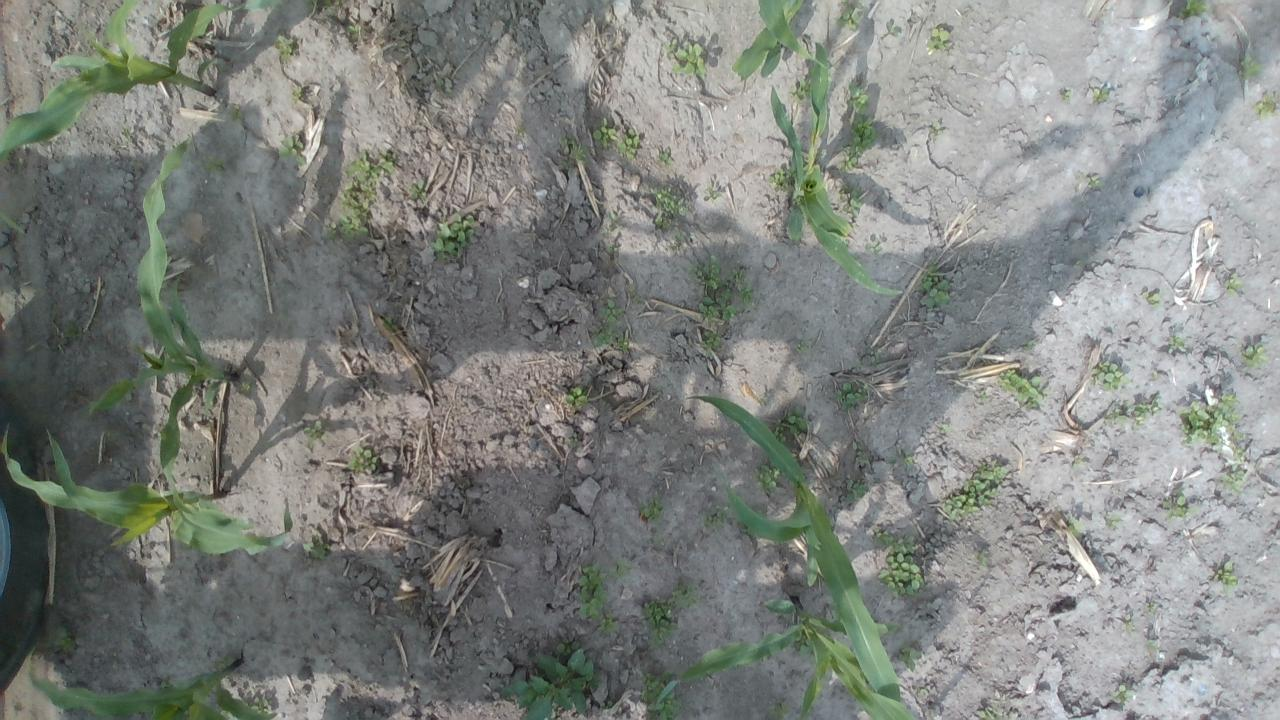Maize: (682, 388, 908, 720), (0, 0, 297, 232), (86, 138, 240, 537), (0, 421, 294, 556), (770, 38, 909, 300), (650, 595, 924, 720), (24, 644, 278, 720), (726, 0, 804, 79), (755, 0, 831, 71)
Weeds: (502, 640, 602, 720), (325, 148, 397, 244), (689, 255, 755, 356), (944, 457, 1010, 522), (1178, 390, 1246, 452), (836, 82, 878, 172), (874, 530, 927, 601), (576, 562, 617, 636), (430, 212, 475, 262), (642, 669, 684, 720), (1103, 397, 1164, 432), (997, 369, 1051, 408), (660, 38, 709, 79), (594, 300, 630, 353), (649, 185, 690, 230), (916, 260, 954, 308), (642, 598, 678, 648), (770, 406, 809, 450), (1088, 360, 1134, 391), (1162, 487, 1200, 522), (558, 133, 590, 171), (1218, 452, 1246, 493), (276, 134, 308, 168), (833, 381, 869, 411), (754, 459, 782, 496), (838, 183, 864, 219), (834, 0, 862, 33), (591, 117, 619, 150), (636, 492, 664, 525), (348, 445, 380, 472), (1212, 560, 1237, 594), (700, 504, 730, 532), (670, 583, 700, 611), (896, 639, 922, 671), (46, 623, 74, 652), (844, 472, 869, 504), (1238, 52, 1264, 82), (766, 167, 796, 193), (617, 128, 641, 160), (1251, 92, 1280, 118), (302, 418, 328, 446), (1242, 343, 1270, 369), (926, 27, 951, 55), (302, 534, 328, 559), (274, 34, 297, 62), (608, 558, 636, 580), (766, 696, 791, 720), (1110, 683, 1136, 706), (1178, 0, 1210, 18), (566, 386, 588, 411), (204, 154, 228, 176), (788, 78, 809, 102), (894, 444, 914, 469), (1222, 272, 1242, 295), (976, 704, 1004, 720), (1065, 516, 1086, 537), (1167, 334, 1189, 354), (792, 634, 812, 655), (213, 652, 235, 671), (408, 178, 427, 200), (624, 284, 644, 304), (852, 440, 868, 465), (250, 697, 272, 715), (867, 346, 885, 368), (604, 210, 623, 230), (1139, 291, 1160, 308), (1105, 510, 1124, 528), (864, 238, 884, 255), (658, 146, 674, 167), (670, 231, 686, 252), (929, 120, 945, 140), (794, 338, 812, 355), (379, 315, 398, 331), (1092, 86, 1110, 102), (228, 104, 244, 122), (703, 185, 722, 200), (1070, 453, 1086, 470), (120, 122, 132, 144), (216, 707, 236, 720), (882, 21, 899, 36), (291, 85, 306, 102), (736, 520, 754, 534), (300, 0, 320, 12), (1124, 614, 1136, 634), (975, 550, 988, 567), (158, 676, 176, 688), (568, 432, 580, 450), (911, 684, 929, 696), (1086, 175, 1102, 188), (1144, 638, 1160, 651), (1021, 340, 1038, 351), (754, 507, 768, 520), (239, 380, 251, 395), (1145, 600, 1158, 613), (600, 698, 614, 710), (436, 76, 446, 92), (346, 24, 361, 34), (606, 242, 618, 253), (1062, 89, 1072, 102), (939, 424, 952, 434), (514, 124, 526, 134), (16, 158, 26, 170), (650, 534, 660, 546), (322, 0, 341, 6), (977, 391, 987, 402)
